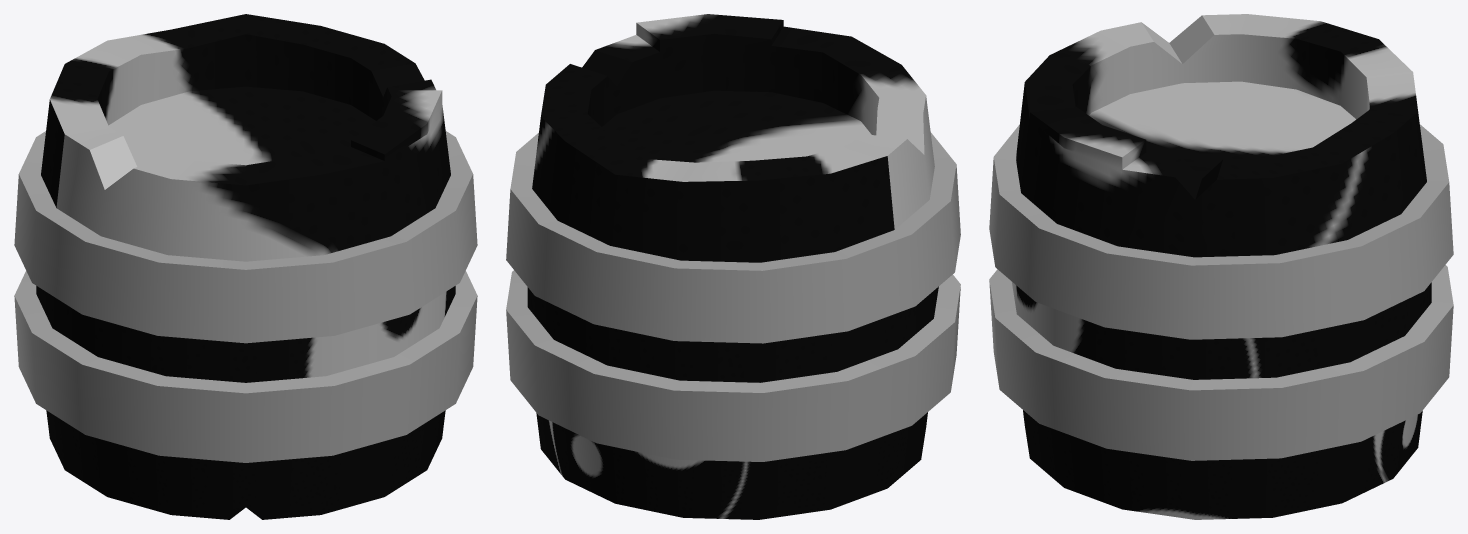
File: MOD_Barrel.fbx
3 views of the same model, side by side, from view 1: azimuth 30°, elevation 25°; view 2: azimuth 150°, elevation 25°; view 3: azimuth 270°, elevation 25° (orthographic). The views are drawn at different scales.
Parts seen in each view (by area): view 1: barrel2; view 2: barrel2; view 3: barrel2.
Boxes of the visible parts, box(x1,y1,x2,y2) form: barrel2: box(14, 14, 477, 519); barrel2: box(506, 14, 960, 519); barrel2: box(989, 14, 1453, 519).
Bounding box in the file's own units: 0.9214 × 0.7708 × 0.9214.
